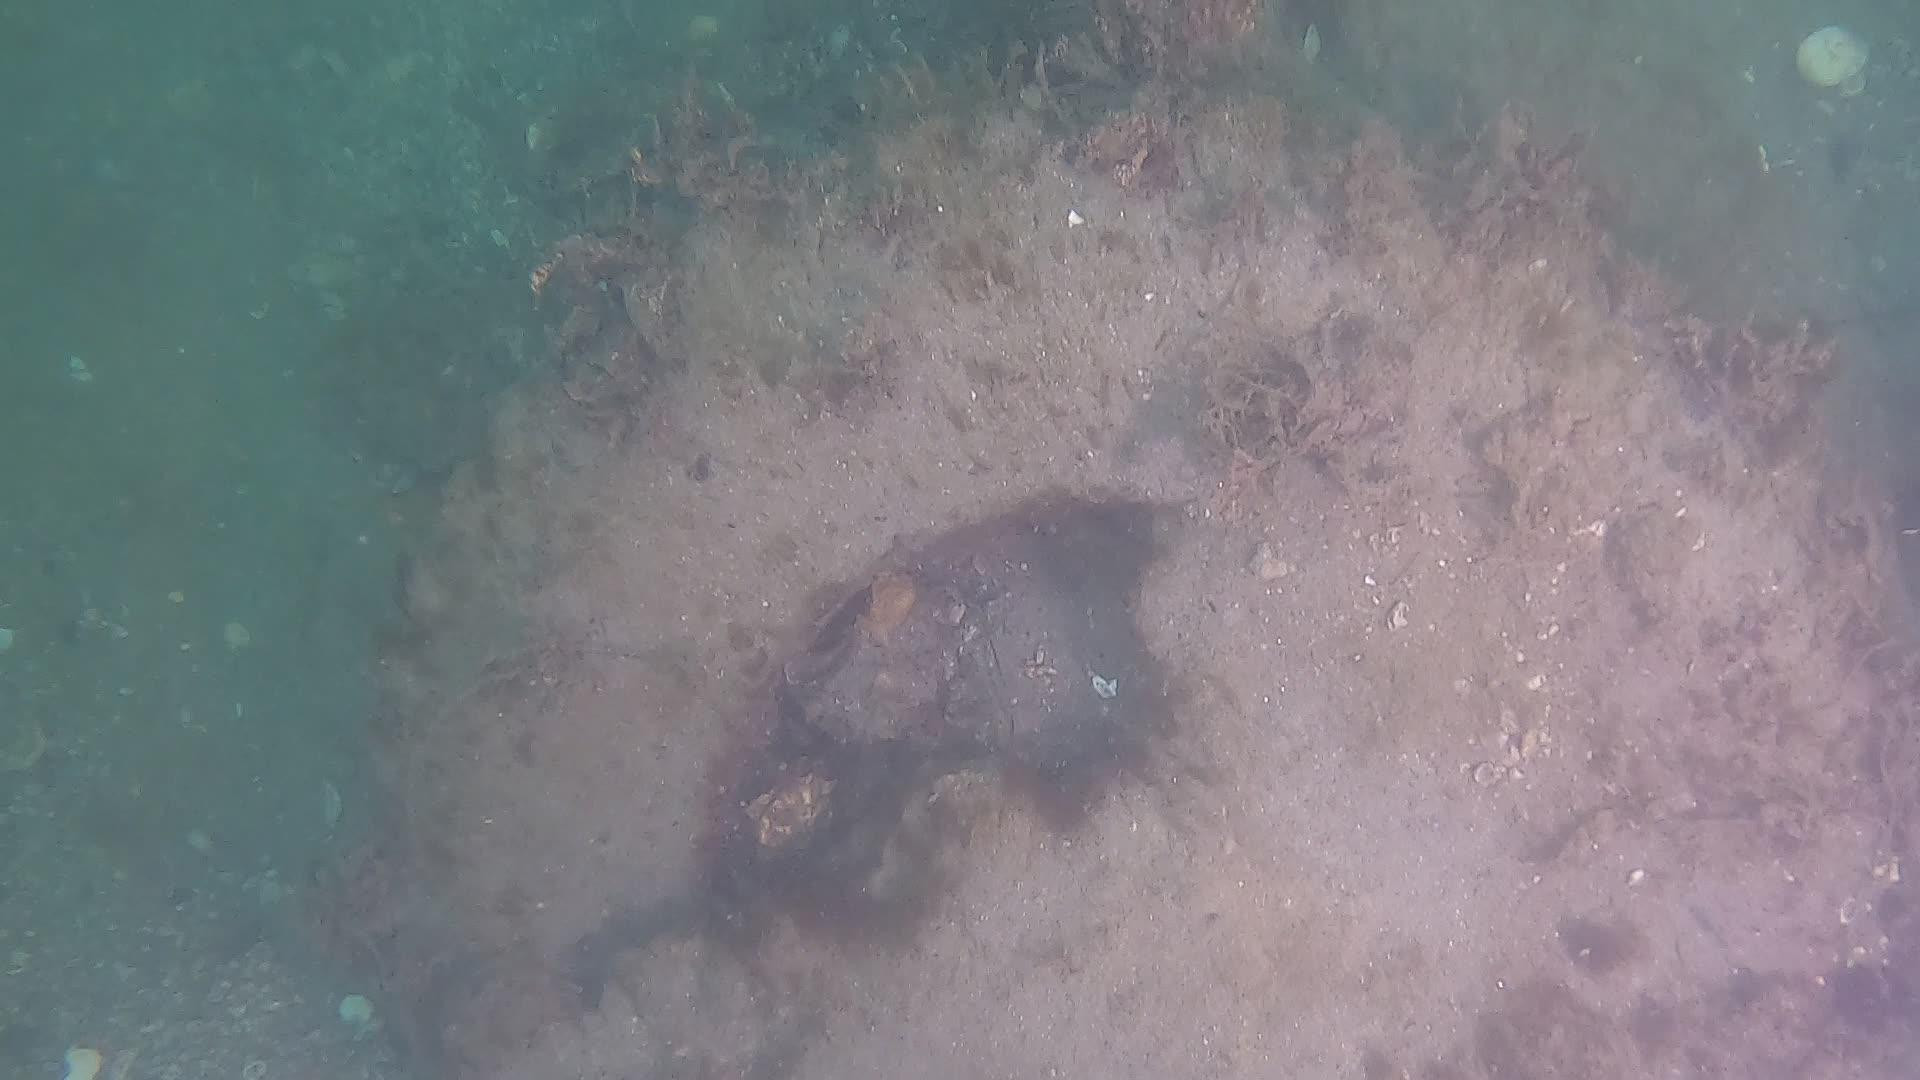tire: (365, 94, 1218, 1080)
